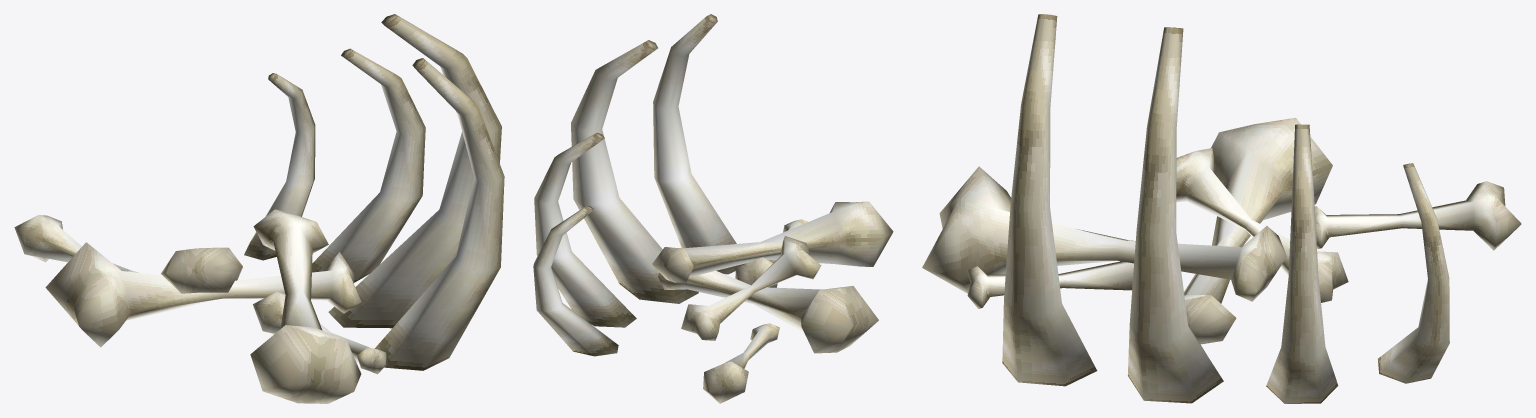
Rendered from om_bones_02.obj.
The picture shows the model from 3 angles, left to right: view 1: azimuth 30°, elevation 25°; view 2: azimuth 150°, elevation 25°; view 3: azimuth 270°, elevation 25°; orthographic projection. The views are drawn at different scales.
Visible parts, largest first — view 1: om_bones_02; view 2: om_bones_02; view 3: om_bones_02.
Part boxes in pixels (box(x1,y1,x2,y2)): om_bones_02: box(14, 14, 504, 403); om_bones_02: box(533, 14, 893, 403); om_bones_02: box(922, 14, 1521, 403).
Size of the model in its own units: 4.34 by 3.09 by 4.67.
Materials: 1 (1 with a texture image).
